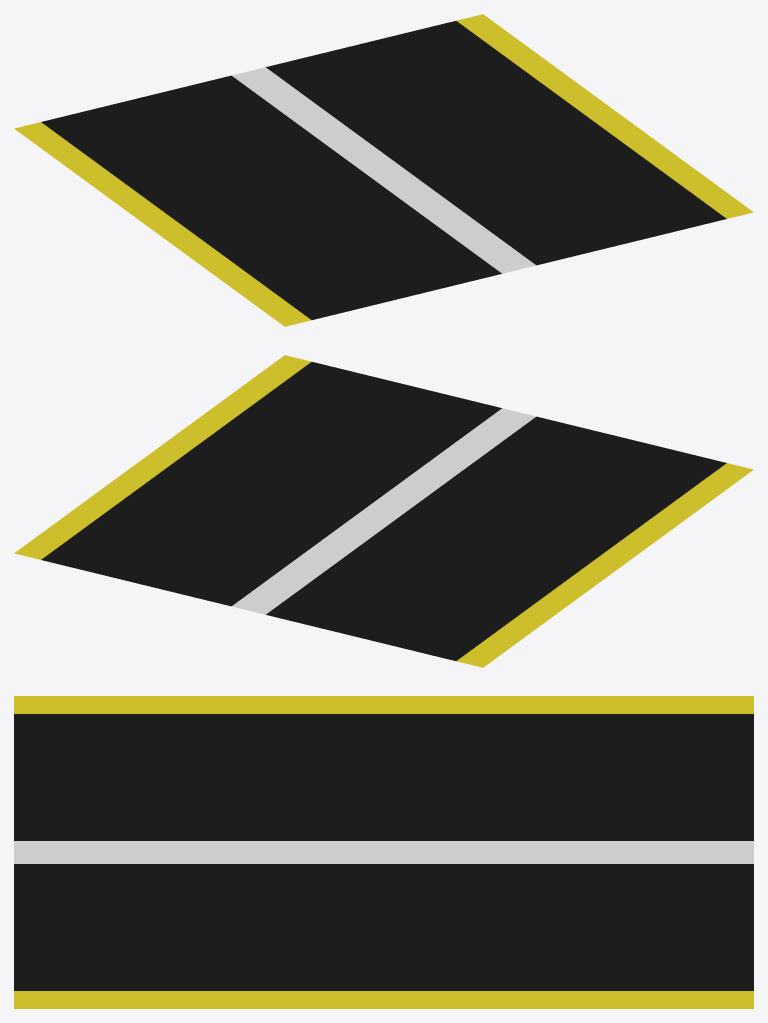
Rendered from StraightRoad.fbx.
3 renders of one model, top to bottom at view 1: azimuth 30°, elevation 25°; view 2: azimuth 150°, elevation 25°; view 3: azimuth 270°, elevation 25°, orthographic. The views are drawn at different scales.
Visible parts, largest first — view 1: Plane; view 2: Plane; view 3: Plane.
Part boxes in pixels (<box>): Plane: <box>14,14,753,326</box>; Plane: <box>14,355,753,667</box>; Plane: <box>14,696,753,1008</box>.
Bounding box in the file's own units: 1000 × 0.000163 × 1000.
